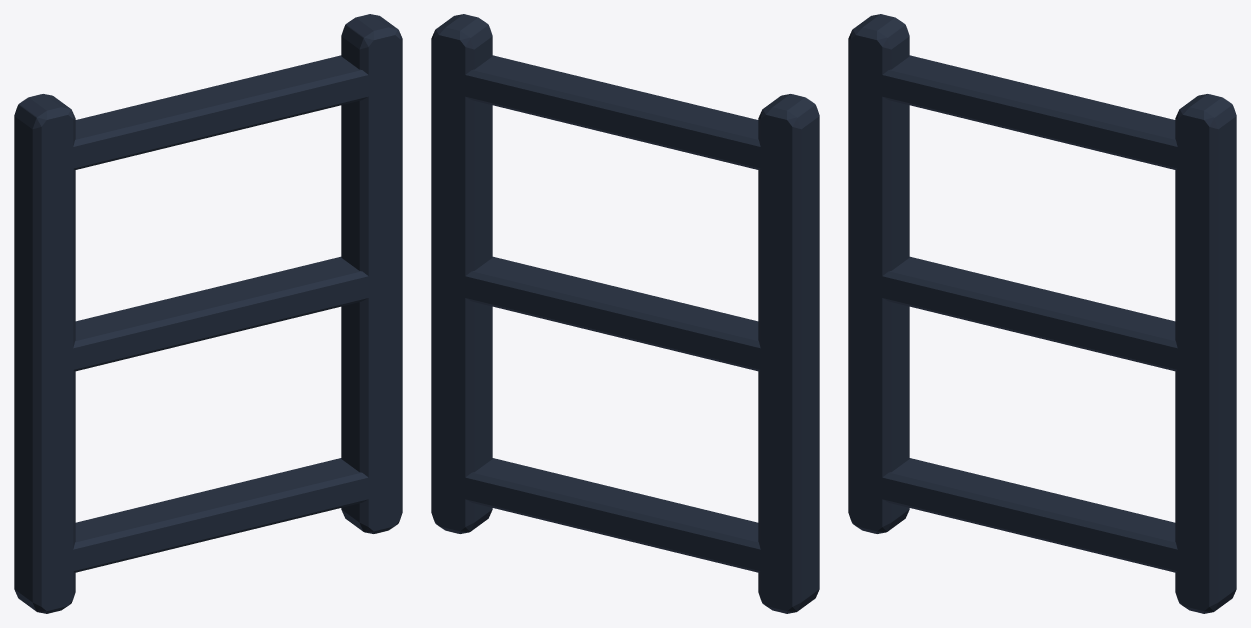
Rendered from symbol-infrastructure.glb.
3 views of the same model, side by side, from view 1: azimuth 30°, elevation 25°; view 2: azimuth 150°, elevation 25°; view 3: azimuth 330°, elevation 25° (orthographic).
Visible parts, largest first — view 1: symbol-infrastructure_SystemMaterial; view 2: symbol-infrastructure_SystemMaterial; view 3: symbol-infrastructure_SystemMaterial.
Part boxes in pixels (x1,y1,x2,y2): symbol-infrastructure_SystemMaterial: (14, 14, 402, 613); symbol-infrastructure_SystemMaterial: (431, 14, 819, 613); symbol-infrastructure_SystemMaterial: (848, 14, 1236, 613).
Size of the model in its own units: 0.77 by 1 by 0.09.
